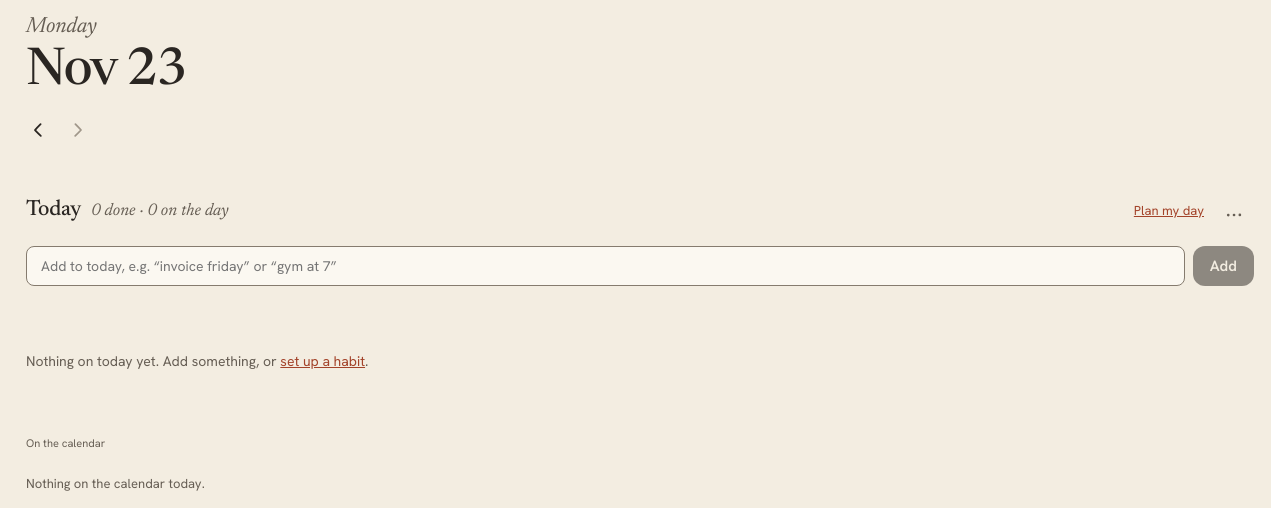
Test: 2026-09-03 — a failed read on the look-back arm › still shows a past day that reads
Expected: the field labelled "Add to today" is shown, [26,246,1185,286]
Click the button named "Previous day".
click(38, 130)  # box [18,110,58,150]
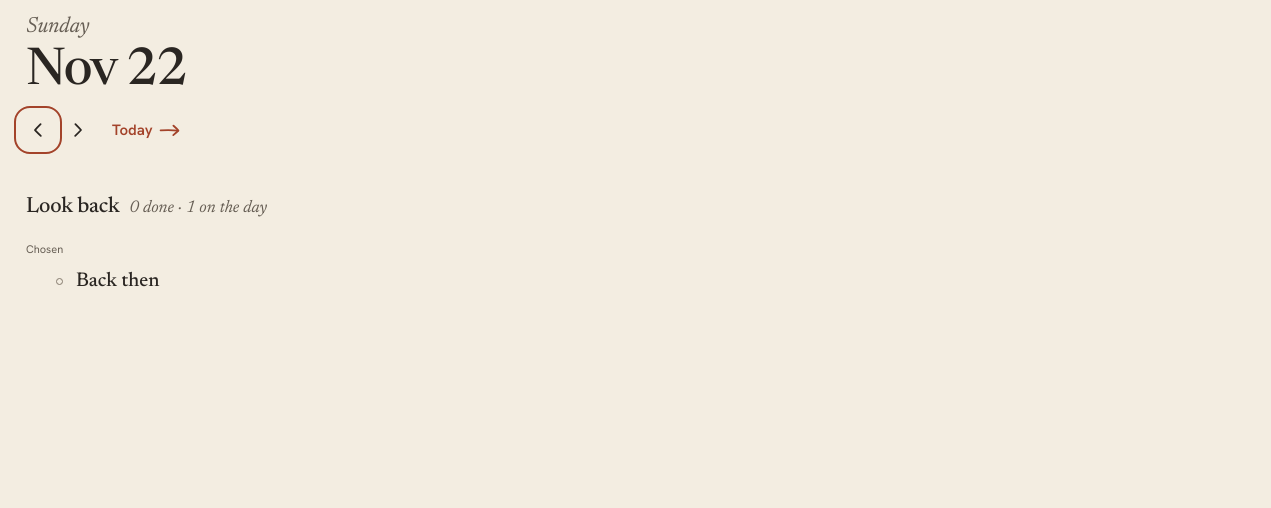
Now the text "Back then" is shown, box [76,270,159,290]
